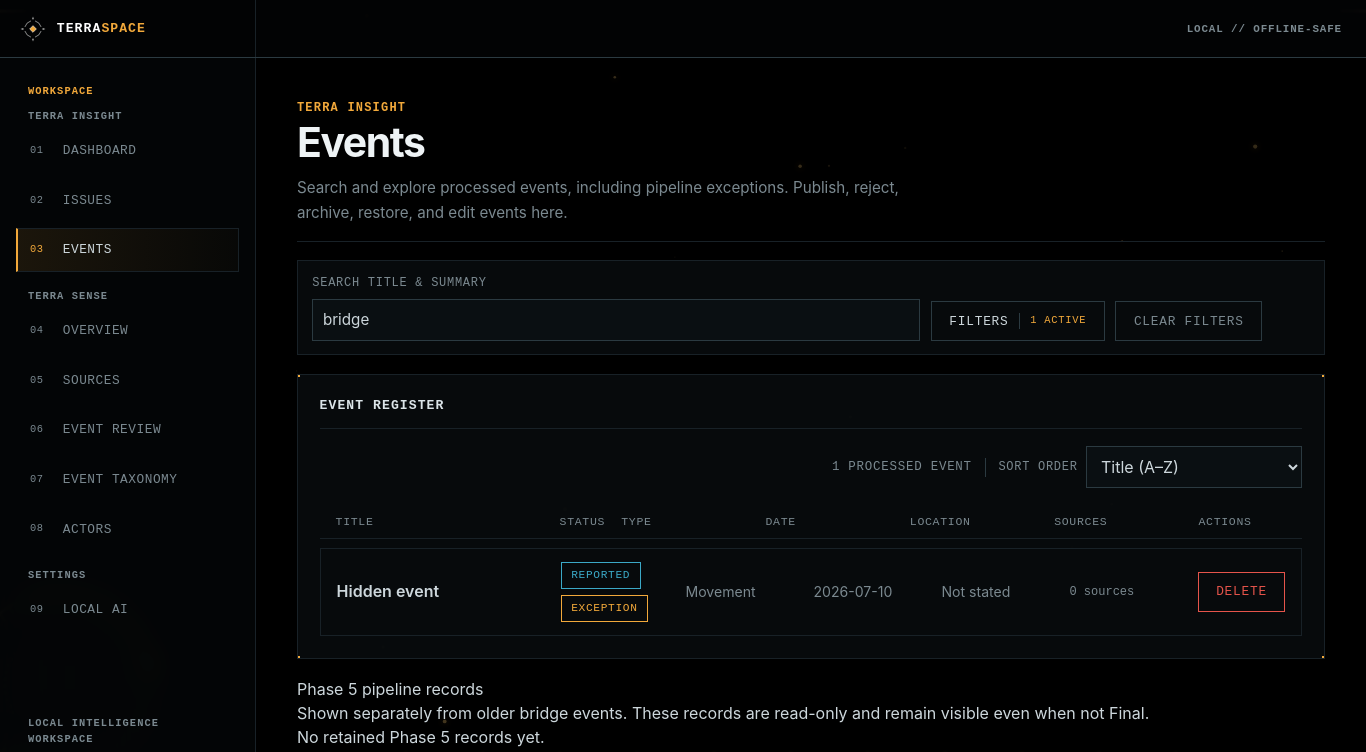
Test: EventsPage › publishes a hidden event and refetches the event list and selected event
Click the button "Hidden event": (441, 592) [337,581,545,603]
(page scrolled)
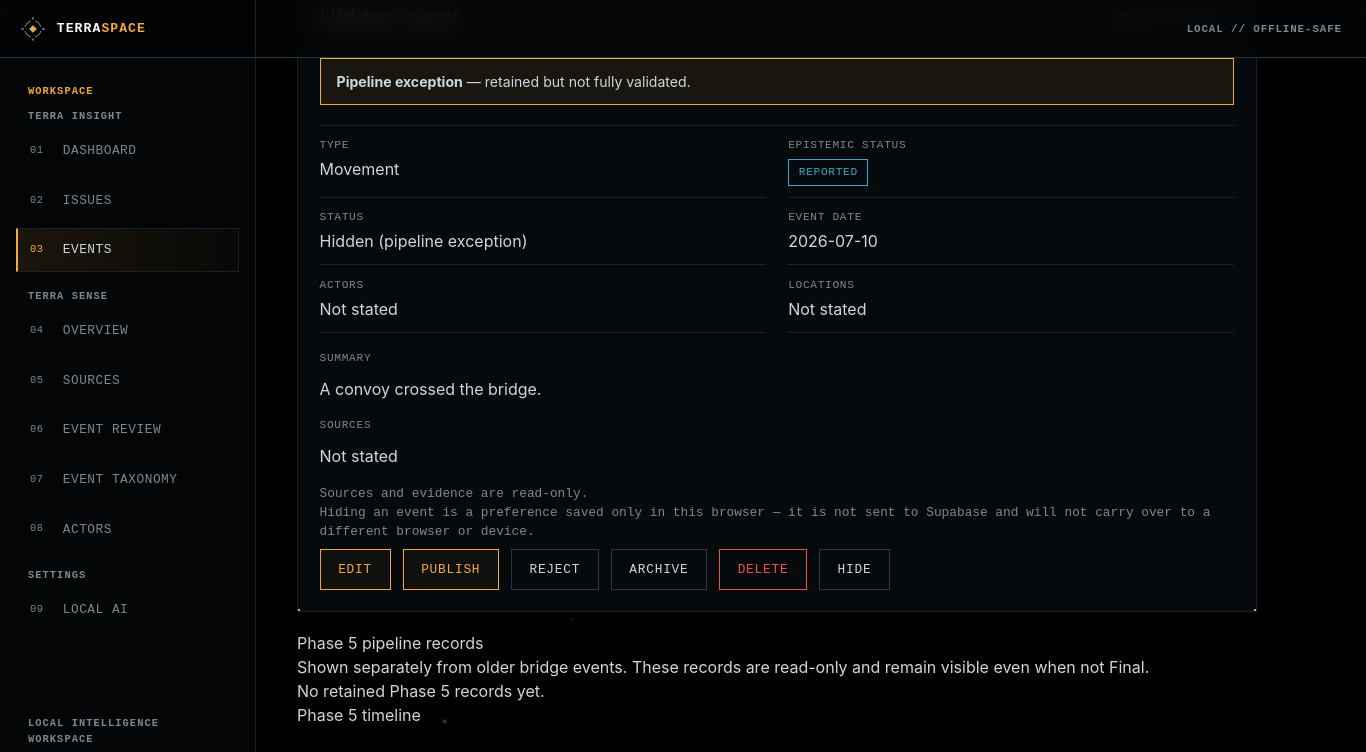
Click the button "Publish": (451, 570) [402,549,499,590]
(page scrolled)
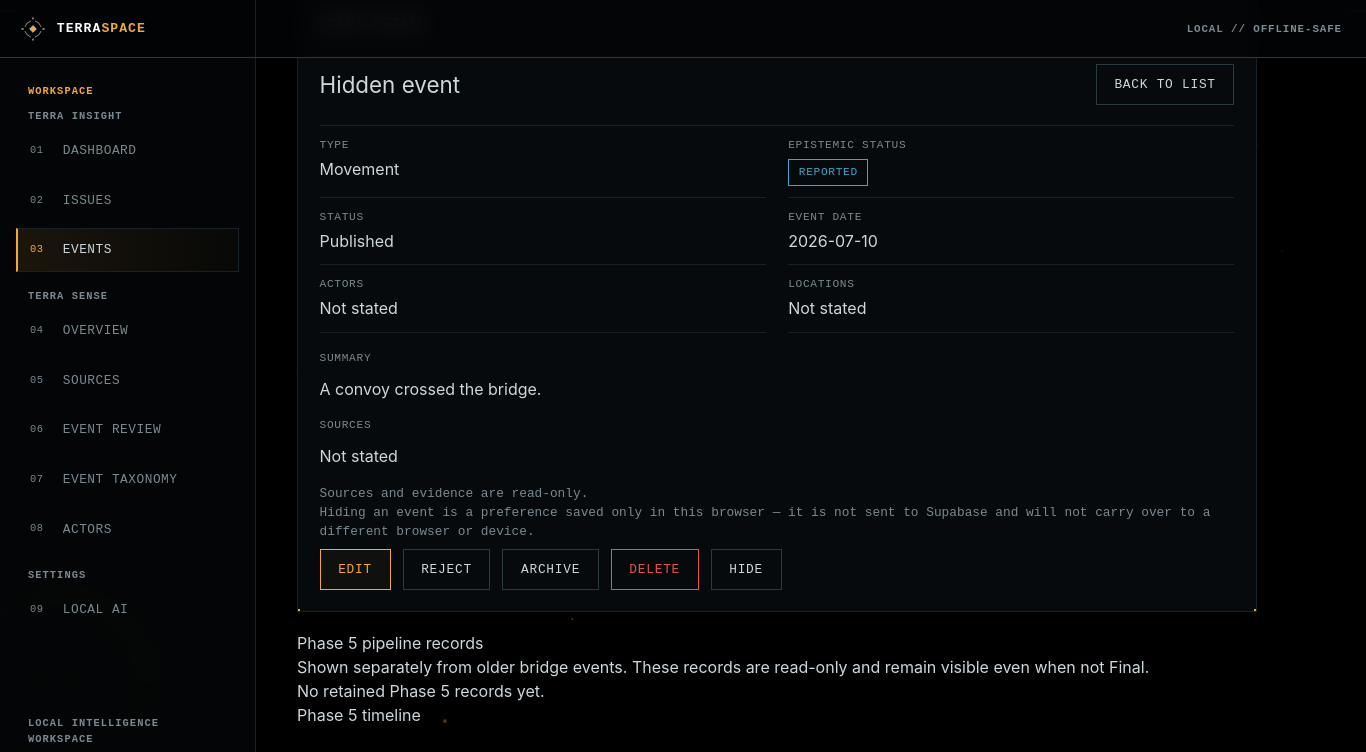
Expected: the text "Published" is shown, [320,231,394,251]
